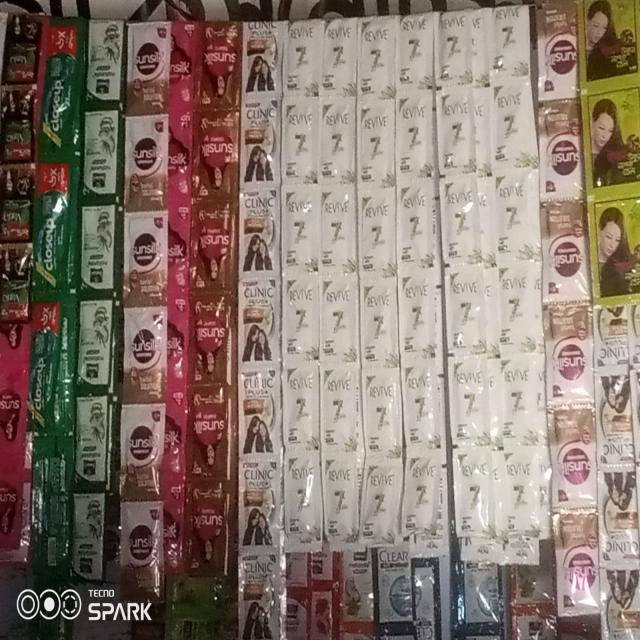non-ubl: (491, 79, 538, 184), (393, 174, 442, 273), (500, 446, 548, 543), (493, 260, 541, 354), (492, 169, 537, 268), (497, 353, 544, 446), (450, 354, 496, 448), (404, 442, 448, 540), (441, 173, 487, 263), (435, 89, 480, 181), (446, 266, 489, 362), (491, 1, 534, 97), (358, 459, 401, 548), (282, 454, 322, 549), (316, 99, 358, 185), (86, 18, 126, 108), (282, 12, 325, 94), (394, 87, 434, 175), (402, 272, 441, 362), (453, 449, 493, 536), (336, 546, 373, 640), (81, 108, 120, 197), (359, 276, 397, 367), (76, 298, 115, 386), (321, 366, 360, 454), (280, 183, 318, 273), (402, 362, 442, 447), (80, 203, 118, 292), (320, 274, 359, 360), (319, 186, 358, 272), (357, 180, 394, 270), (356, 98, 394, 184), (282, 363, 318, 451), (362, 365, 399, 449), (356, 16, 394, 97), (0, 15, 42, 88), (75, 398, 107, 492), (282, 95, 318, 178), (323, 19, 357, 102), (395, 14, 432, 87), (437, 13, 472, 87), (74, 496, 103, 585), (0, 243, 32, 319), (1, 83, 37, 136), (1, 162, 35, 208), (0, 118, 34, 162), (0, 220, 32, 243)
ubl: (36, 17, 85, 173), (27, 302, 64, 446), (124, 16, 172, 117), (550, 409, 598, 509), (544, 198, 585, 312), (195, 20, 243, 115), (36, 164, 69, 298), (118, 400, 166, 492), (186, 388, 230, 483), (188, 198, 236, 284), (539, 99, 581, 197), (193, 108, 240, 194), (123, 113, 167, 204), (122, 304, 168, 391), (189, 483, 231, 574), (241, 559, 288, 640), (122, 504, 162, 599), (240, 18, 284, 104), (236, 188, 278, 278), (188, 308, 234, 390), (602, 536, 640, 635), (241, 459, 280, 554), (597, 380, 640, 465), (548, 329, 594, 406), (239, 98, 280, 182), (125, 212, 167, 292), (560, 522, 596, 614), (603, 465, 637, 562), (239, 280, 278, 362), (594, 308, 633, 372), (240, 368, 278, 428)
